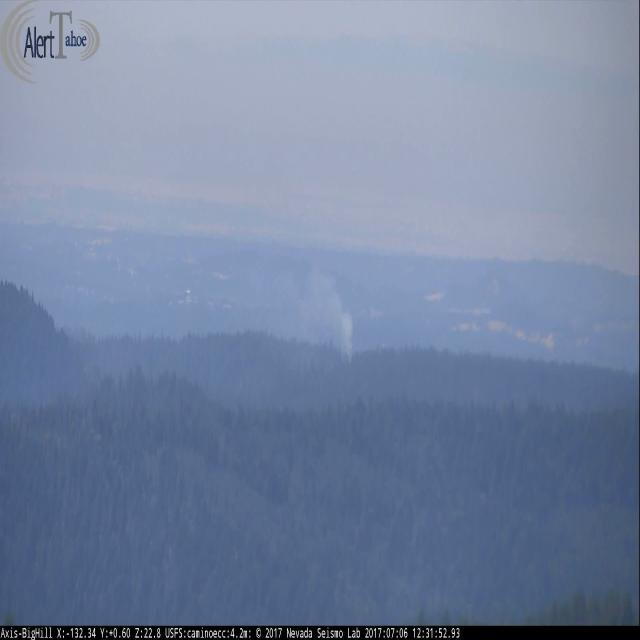smoke: (303, 267, 354, 360)
